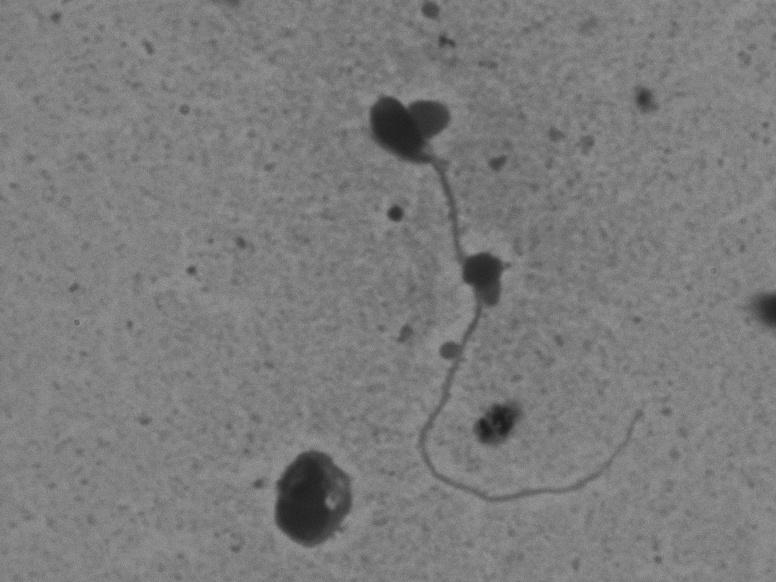Abnormal: (342, 59, 688, 530)
